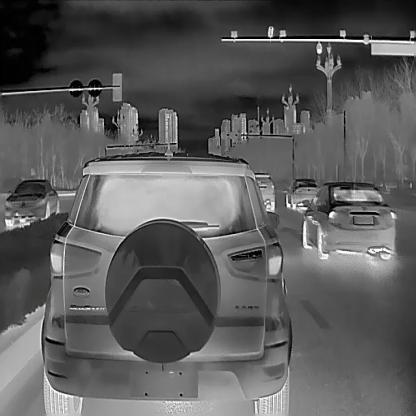car: (40, 152, 292, 415), (301, 181, 395, 259), (5, 177, 59, 228), (285, 178, 320, 211), (255, 172, 274, 212)
